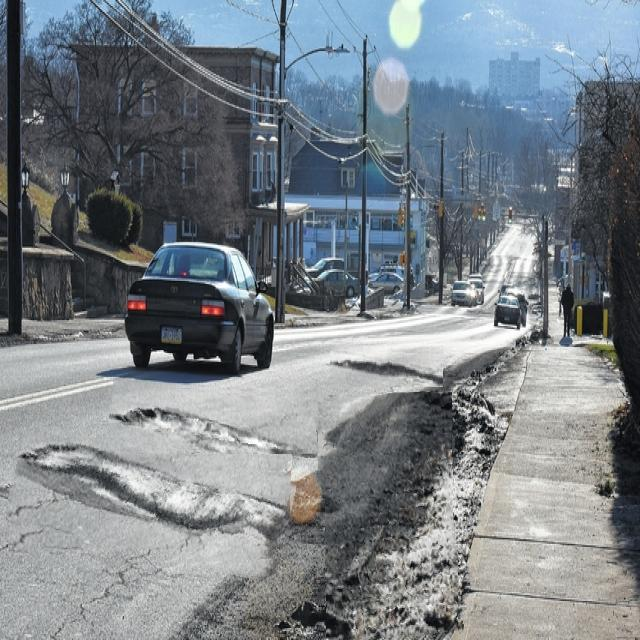Pothole: (8, 438, 293, 569), (318, 392, 458, 640), (109, 384, 323, 454), (330, 347, 443, 387)
